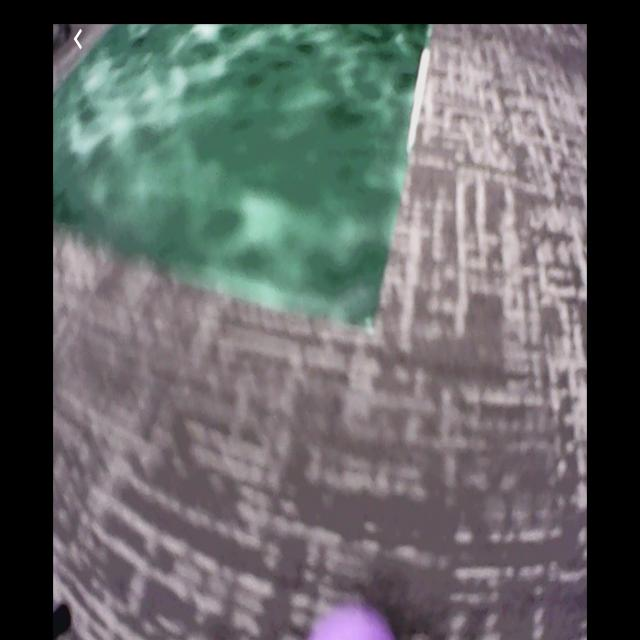ball: (306, 606, 392, 640)
